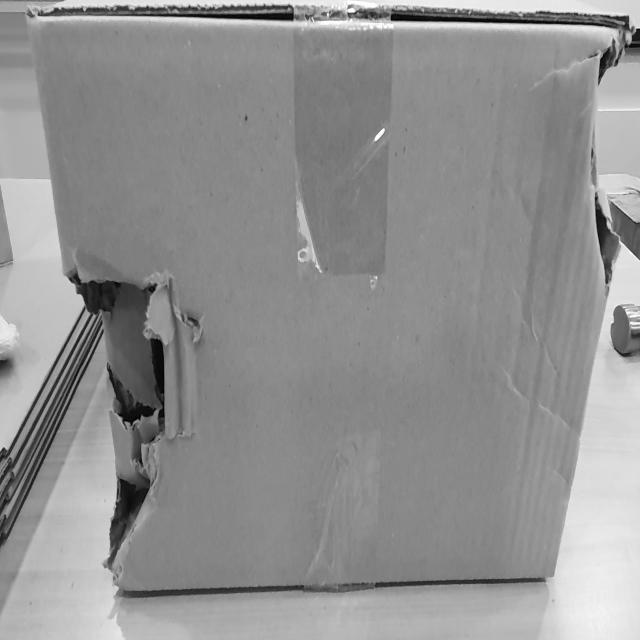hole: (61, 250, 217, 592), (572, 19, 634, 287)
